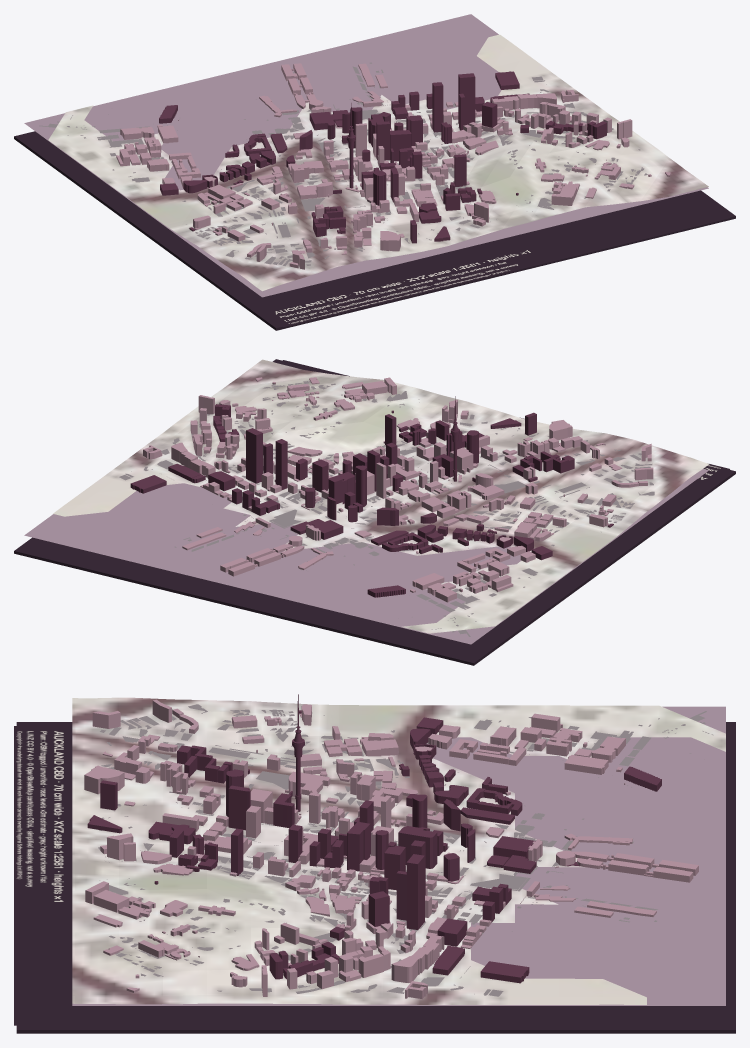
Rendered from auckland-city.glb.
3 renders of one model, top to bottom at view 1: azimuth 30°, elevation 25°; view 2: azimuth 150°, elevation 25°; view 3: azimuth 270°, elevation 25°, orthographic. The views are drawn at different scales.
Parts seen in each view (by area): view 1: LINZ_same_surface_CBD_crop_vertical_1x, Water_background_not_bathymetry, OSM_estimated_heights, Presentation_base_not_geographic, OSM_tagged_heights, Scale_sources_and_height_provenance, OSM_unknown_heights; view 2: LINZ_same_surface_CBD_crop_vertical_1x, Water_background_not_bathymetry, OSM_estimated_heights, OSM_tagged_heights, Presentation_base_not_geographic, OSM_unknown_heights, Scale_sources_and_height_provenance; view 3: LINZ_same_surface_CBD_crop_vertical_1x, Water_background_not_bathymetry, OSM_estimated_heights, OSM_tagged_heights, Presentation_base_not_geographic, Scale_sources_and_height_provenance, OSM_unknown_heights, Sky_Tower_16_OSM_tagged_parts_unverified.
Boxes of the visible parts, left/top/right/bottom form: LINZ_same_surface_CBD_crop_vertical_1x: left=48, top=34, right=708, bottom=291; Water_background_not_bathymetry: left=24, top=14, right=708, bottom=297; OSM_estimated_heights: left=116, top=63, right=670, bottom=269; Presentation_base_not_geographic: left=14, top=131, right=735, bottom=330; OSM_tagged_heights: left=159, top=71, right=606, bottom=243; Scale_sources_and_height_provenance: left=263, top=203, right=729, bottom=327; OSM_unknown_heights: left=39, top=62, right=647, bottom=266; LINZ_same_surface_CBD_crop_vertical_1x: left=53, top=359, right=708, bottom=633; Water_background_not_bathymetry: left=24, top=469, right=708, bottom=644; OSM_estimated_heights: left=143, top=377, right=653, bottom=602; OSM_tagged_heights: left=130, top=404, right=613, bottom=597; Presentation_base_not_geographic: left=14, top=359, right=735, bottom=665; OSM_unknown_heights: left=119, top=381, right=654, bottom=636; Scale_sources_and_height_provenance: left=279, top=360, right=729, bottom=483; LINZ_same_surface_CBD_crop_vertical_1x: left=72, top=697, right=725, bottom=1004; Water_background_not_bathymetry: left=72, top=706, right=725, bottom=1005; OSM_estimated_heights: left=84, top=699, right=698, bottom=998; OSM_tagged_heights: left=87, top=710, right=661, bottom=983; Presentation_base_not_geographic: left=16, top=722, right=735, bottom=1033; Scale_sources_and_height_provenance: left=14, top=726, right=69, bottom=1025; OSM_unknown_heights: left=98, top=704, right=713, bottom=996; Sky_Tower_16_OSM_tagged_parts_unverified: left=292, top=694, right=304, bottom=811.
Bounding box in the file's own units: 0.72 × 0.1639 × 0.7133.
Materials: 8 (2 with a texture image).
